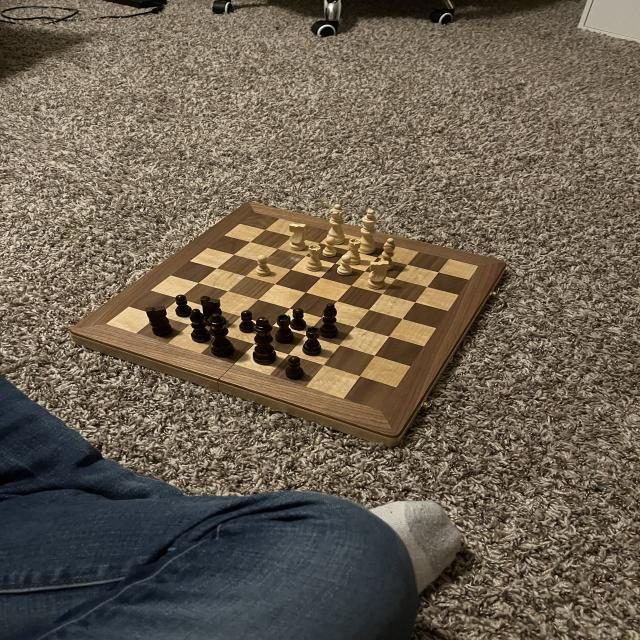bishop: (187, 306, 213, 344), (319, 299, 341, 341)
black-bishop: (250, 316, 280, 368)
black-king: (144, 302, 178, 339), (200, 295, 228, 329)
black-knight: (284, 354, 308, 381), (173, 292, 194, 319), (288, 306, 308, 332), (239, 308, 254, 335)
black-pawn: (205, 310, 234, 364)
black-queen: (274, 312, 297, 348), (300, 325, 324, 356)
black-rook: (377, 236, 399, 270)
white-bishop: (356, 206, 378, 256)
white-king: (365, 259, 391, 292), (288, 222, 308, 251)
white-knight: (252, 252, 276, 278), (336, 254, 356, 278), (322, 236, 338, 256)
white-pawn: (326, 202, 346, 247)
white-queen: (304, 242, 324, 274), (342, 236, 363, 266)
